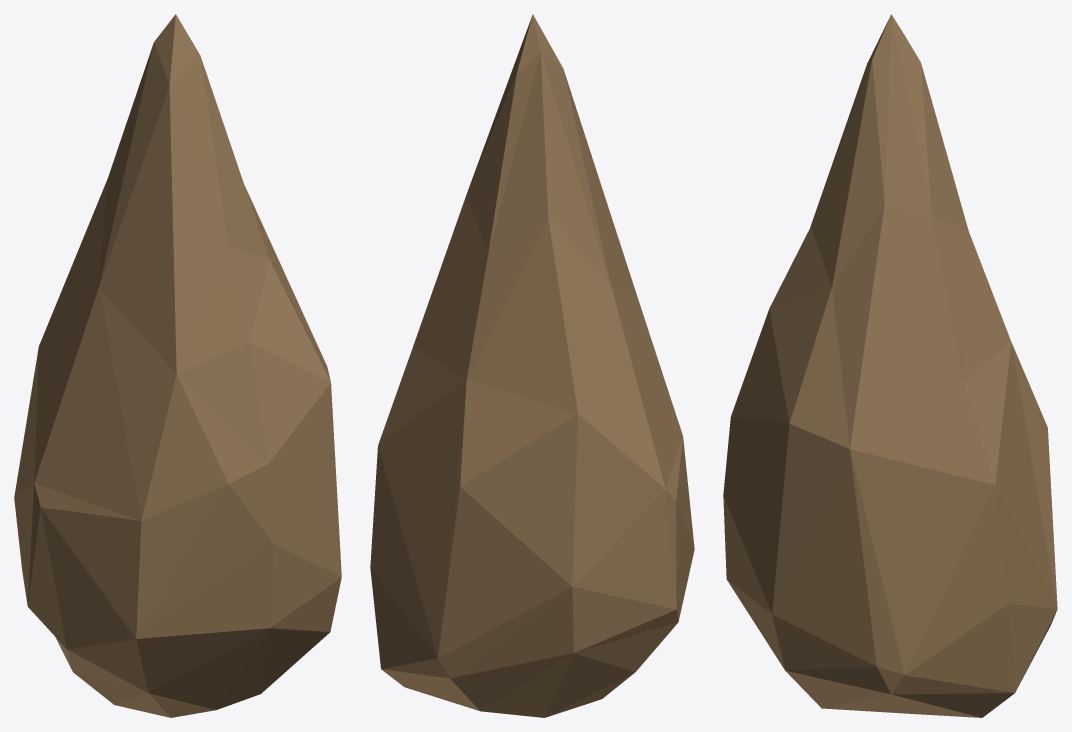
File: stalagmite.glb
3 views of the same model, side by side, from view 1: azimuth 30°, elevation 25°; view 2: azimuth 150°, elevation 25°; view 3: azimuth 270°, elevation 25° (orthographic).
Parts seen in each view (by area): view 1: SM_Env_Stalagmite_01; view 2: SM_Env_Stalagmite_01; view 3: SM_Env_Stalagmite_01.
Part boxes in pixels (<box>): SM_Env_Stalagmite_01: <box>14,14,341,717</box>; SM_Env_Stalagmite_01: <box>370,14,694,717</box>; SM_Env_Stalagmite_01: <box>723,14,1057,717</box>.
Bounding box in the file's own units: 21.96 × 49.88 × 21.79.
Materials: 1 (1 with a texture image).
